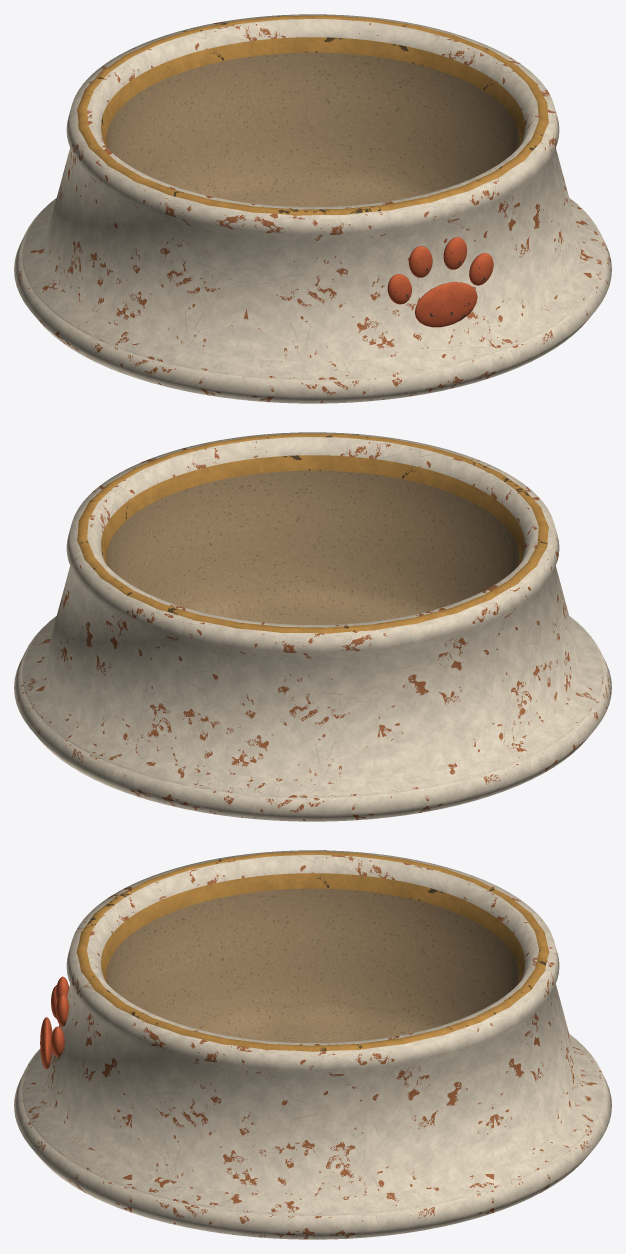
The model's file is C1_狗碗_分享包版.glb.
3 views of the same model, one above another, from view 1: azimuth 30°, elevation 25°; view 2: azimuth 150°, elevation 25°; view 3: azimuth 270°, elevation 25° (orthographic).
Parts seen in each view (by area): view 1: Hollow ceramic bowl, Warm inner glaze, Rolled terracotta foot, Metal rolled upper rim, Paw central pad, Paw toe.003, Paw toe.002, Paw toe.001, Paw toe; view 2: Hollow ceramic bowl, Warm inner glaze, Rolled terracotta foot, Metal rolled upper rim; view 3: Hollow ceramic bowl, Warm inner glaze, Rolled terracotta foot, Metal rolled upper rim, Paw central pad.
Part boxes in pixels (x1,y1,x2,y2): Hollow ceramic bowl: (22,14,603,379); Warm inner glaze: (106,52,519,206); Rolled terracotta foot: (14,202,611,403); Metal rolled upper rim: (77,15,548,215); Paw central pad: (415,282,477,327); Paw toe.003: (469,253,493,285); Paw toe.002: (443,237,467,269); Paw toe.001: (409,246,432,277); Paw toe: (387,274,411,304); Hollow ceramic bowl: (22,432,603,797); Warm inner glaze: (106,470,519,624); Rolled terracotta foot: (14,620,611,821); Metal rolled upper rim: (77,433,548,633); Hollow ceramic bowl: (22,850,603,1215); Warm inner glaze: (106,888,519,1042); Rolled terracotta foot: (14,1038,611,1239); Metal rolled upper rim: (76,851,549,1051); Paw central pad: (40,1017,52,1069).
Bounding box in the file's own units: 1.65 × 0.515 × 1.65.
4 materials, 4 textured.
